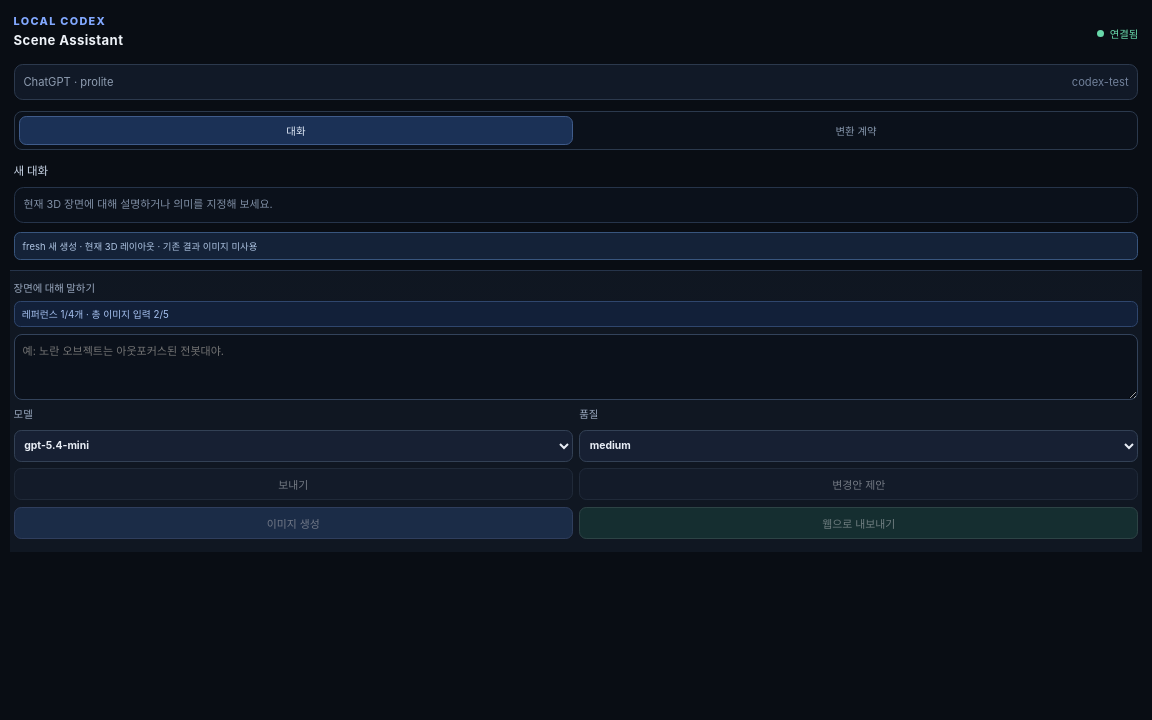
Test: SceneAssistantPanel › 현재 SceneDocument와 메시지를 turn으로 보내고 응답을 스트리밍한다
The width and height of the screenshot is (1152, 720).
Type "노란 물체는 전봇대야." into the text box labelled "장면에 대해 말하기". click: (576, 367)
box: [14,334,1138,400]
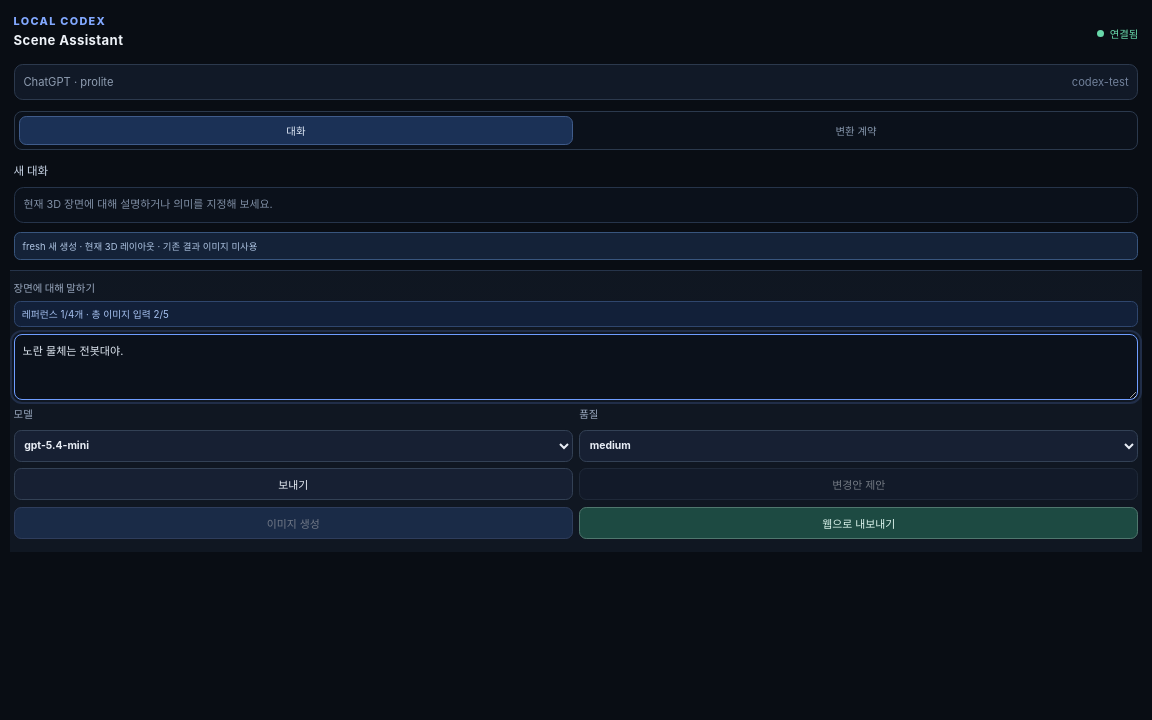
Type keys "{Shift>}{Enter}{/Shift}강한 아웃포커스야."
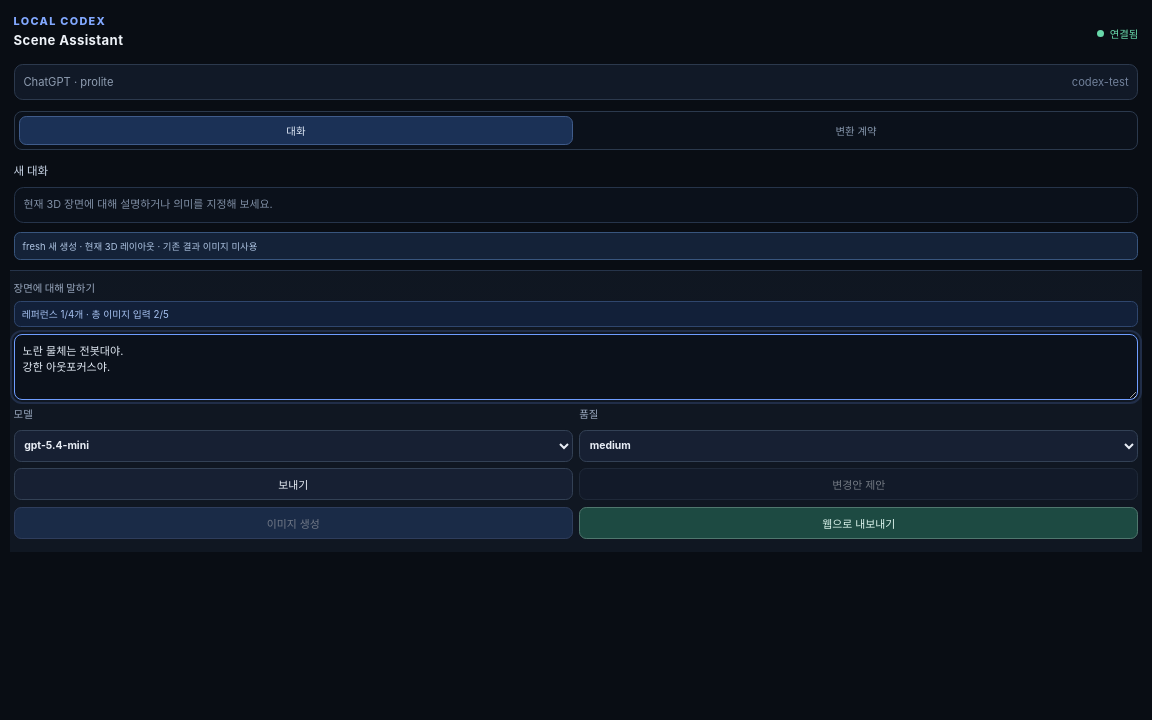
Press Enter
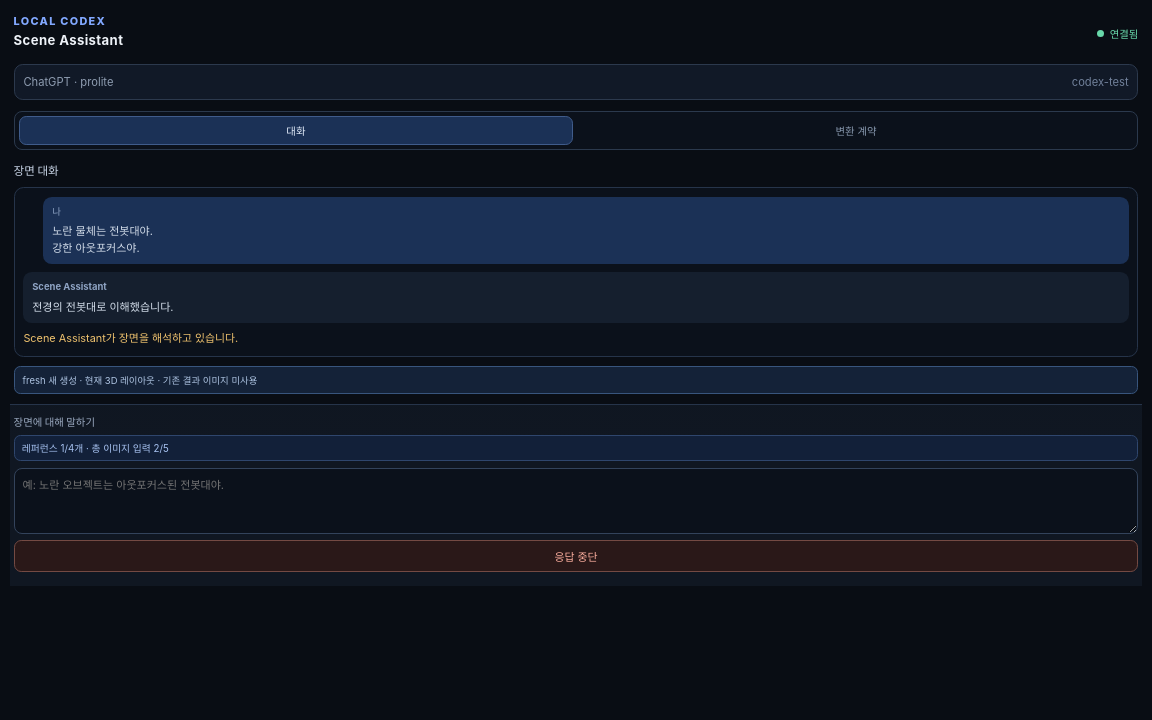
expect the text "레퍼런스 1/4개 · 총 이미지 입력 2/5" is shown: met, box [14,435,1138,462]
expect the text "전경의 전봇대로 이해했습니다." is shown: met, box [32,300,174,314]
